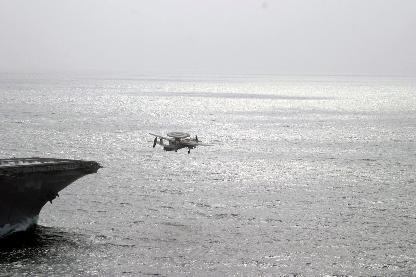C5: (148, 131, 214, 152)
